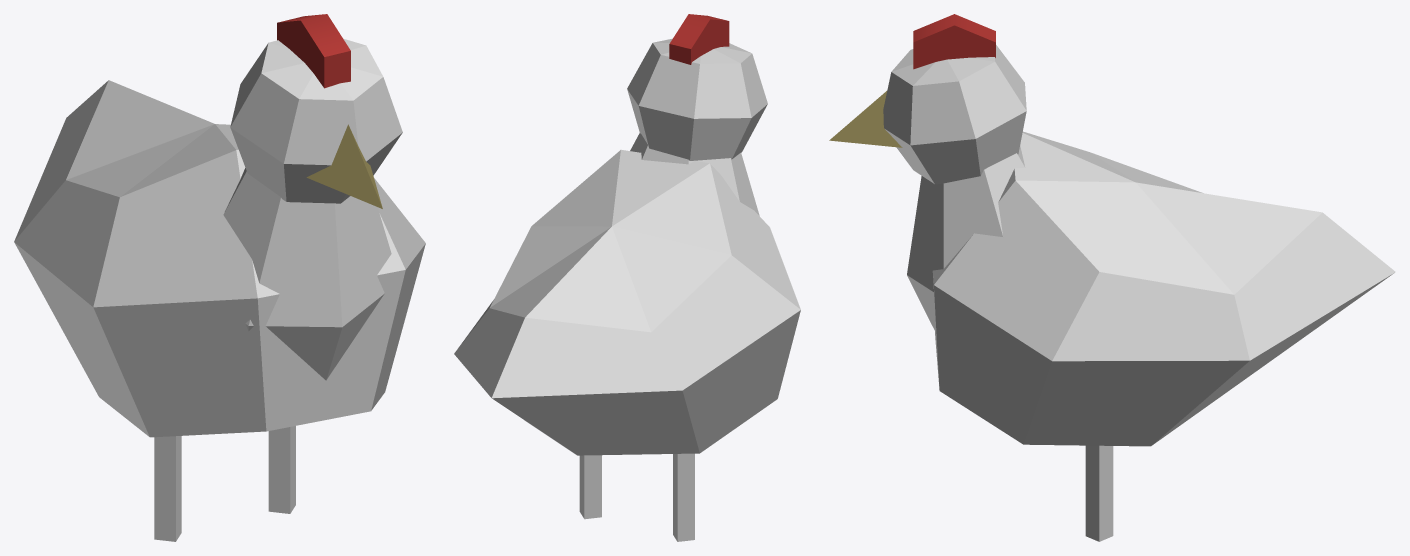
Rendered from SM_poulet.fbx.
The picture shows the model from 3 angles, left to right: view 1: azimuth 30°, elevation 25°; view 2: azimuth 150°, elevation 25°; view 3: azimuth 270°, elevation 25°; orthographic projection. The views are drawn at different scales.
Parts seen in each view (by area): view 1: SM_poulet; view 2: SM_poulet; view 3: SM_poulet.
Boxes of the visible parts, left/top/right/bottom form: SM_poulet: left=14, top=14, right=425, bottom=541; SM_poulet: left=454, top=14, right=800, bottom=541; SM_poulet: left=829, top=14, right=1395, bottom=541.
Size of the model in its own units: 45.14 by 71.48 by 74.25.
